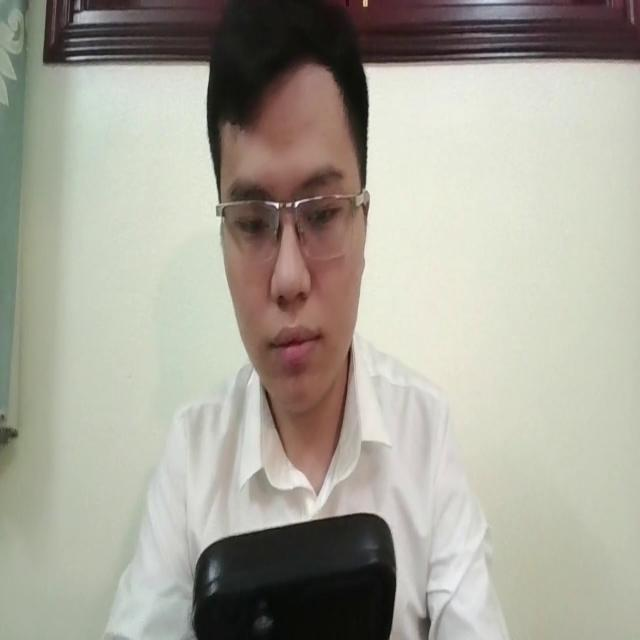phone: (189, 502, 397, 640)
student: (92, 0, 518, 640)
